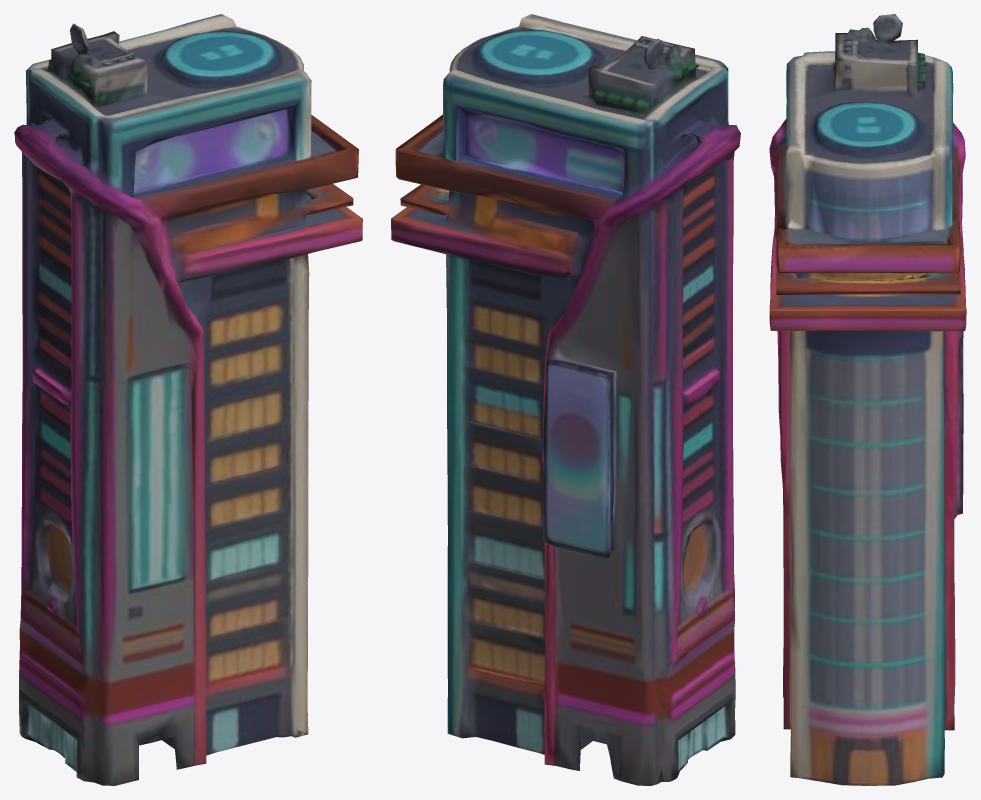
Rendered from tower-02.glb.
3 renders of one model, left to right at view 1: azimuth 30°, elevation 25°; view 2: azimuth 150°, elevation 25°; view 3: azimuth 270°, elevation 25°, orthographic. The views are drawn at different scales.
Parts seen in each view (by area): view 1: world; view 2: world; view 3: world.
Part boxes in pixels (box(x1,y1,x2,y2)): world: box(14, 14, 362, 785); world: box(391, 14, 740, 785); world: box(769, 14, 966, 785).
Size of the model in its own units: 0.4084 by 0.9932 by 0.2607.
1 material, 1 textured.
